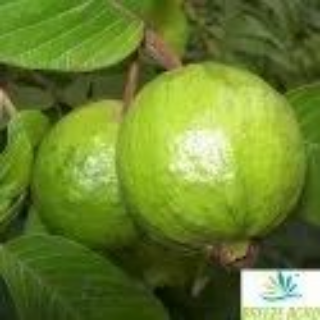oi: (115, 59, 306, 262)
